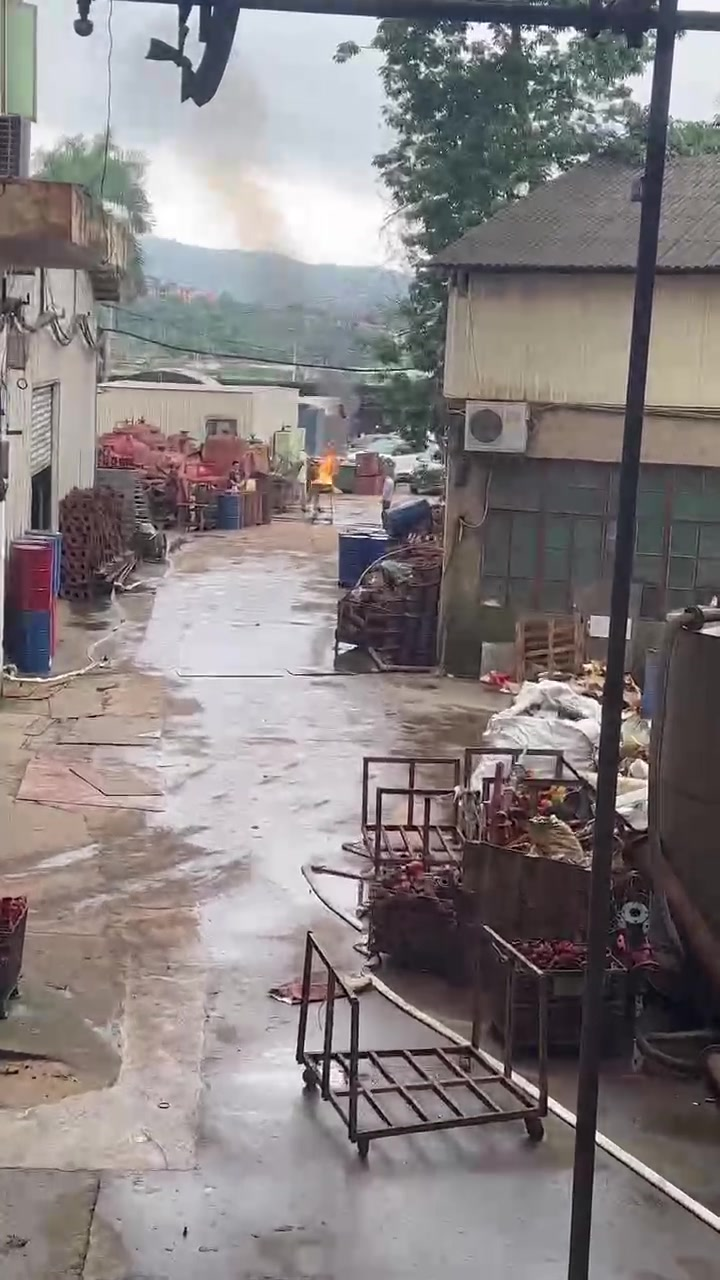fire: (310, 452, 331, 484)
